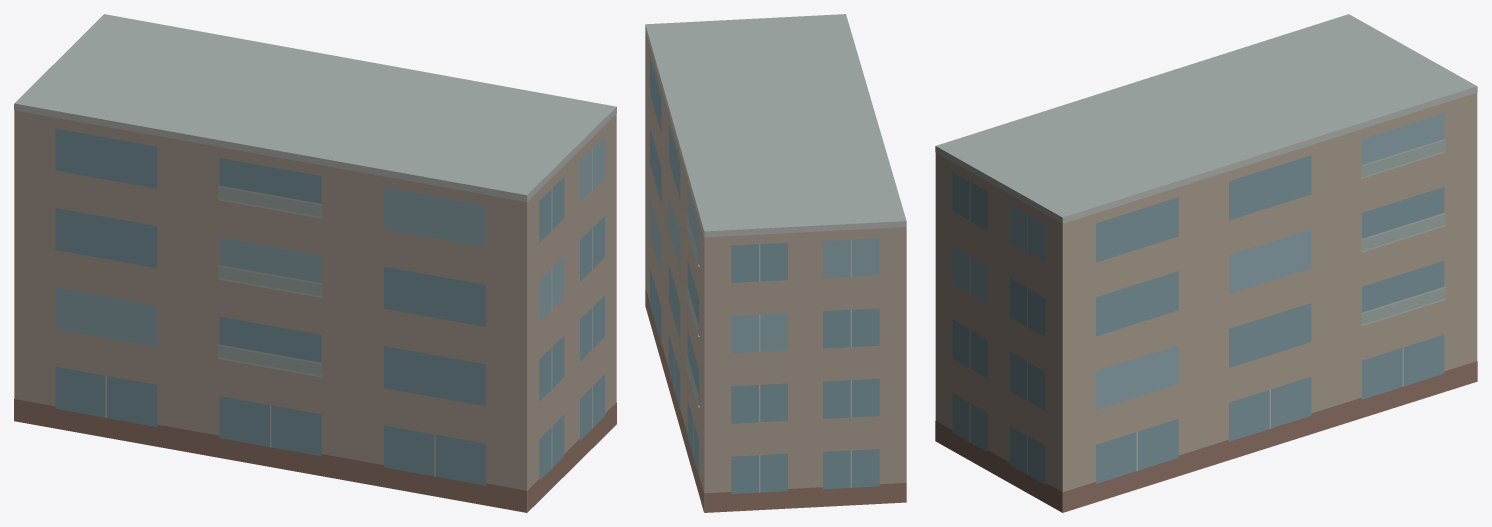
The model's file is survey-upis-32533488.glb.
The picture shows the model from 3 angles, left to right: view 1: azimuth 30°, elevation 25°; view 2: azimuth 150°, elevation 25°; view 3: azimuth 270°, elevation 25°; orthographic projection. The views are drawn at different scales.
Parts seen in each view (by area): view 1: survey-upis-32533488.tmp; view 2: survey-upis-32533488.tmp; view 3: survey-upis-32533488.tmp.
Part boxes in pixels (left/top/right/bottom): survey-upis-32533488.tmp: left=14, top=14, right=616, bottom=512; survey-upis-32533488.tmp: left=645, top=14, right=906, bottom=512; survey-upis-32533488.tmp: left=935, top=14, right=1477, bottom=512.
Size of the model in its own units: 16.86 by 11.4 by 18.97.
